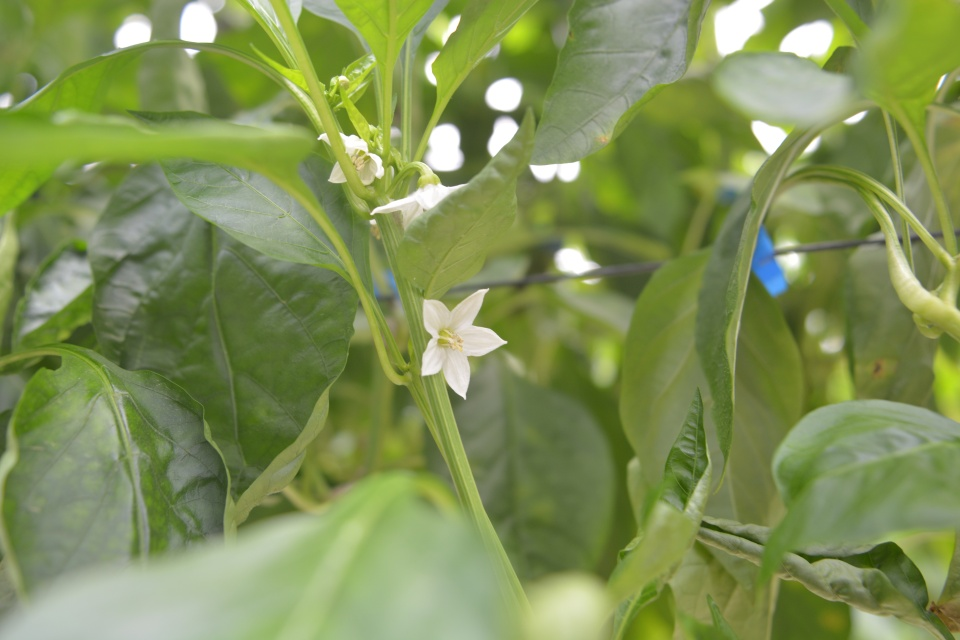flower: (418, 286, 509, 403), (368, 182, 472, 229), (314, 131, 386, 187)
